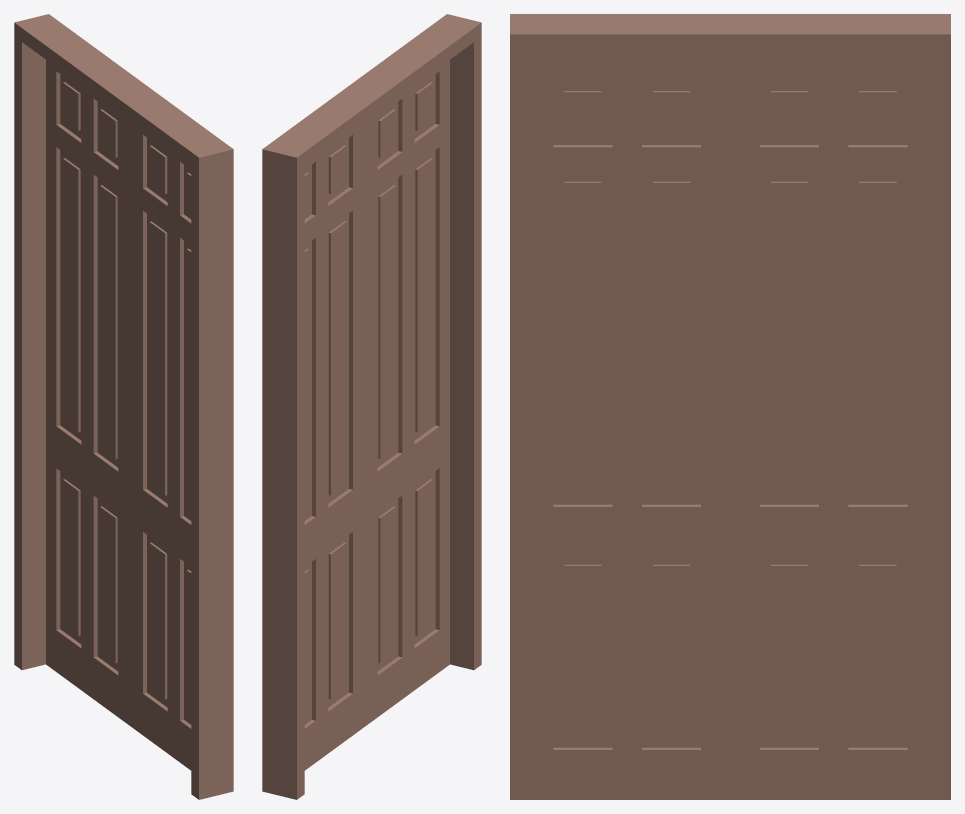
File: Door_Exterior.fbx
The picture shows the model from 3 angles, left to right: view 1: azimuth 30°, elevation 25°; view 2: azimuth 150°, elevation 25°; view 3: azimuth 270°, elevation 25°; orthographic projection. The views are drawn at different scales.
Visible parts, largest first — view 1: Door Exterior; view 2: Door Exterior; view 3: Door Exterior.
Boxes of the visible parts, bbox=[...] form: Door Exterior: bbox=[14, 14, 233, 799]; Door Exterior: bbox=[262, 14, 481, 799]; Door Exterior: bbox=[510, 14, 950, 799].
Bounding box in the file's own units: 14.09 × 249 × 130.
